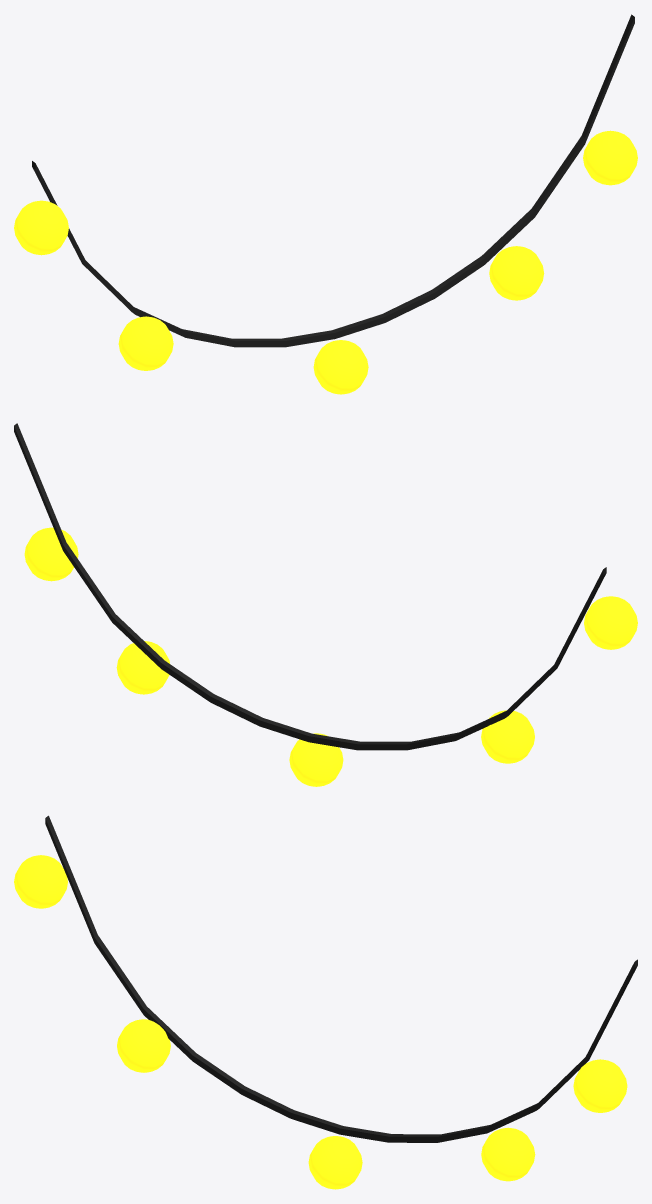
File: Lighting_chain.fbx
3 renders of one model, top to bottom at view 1: azimuth 30°, elevation 25°; view 2: azimuth 150°, elevation 25°; view 3: azimuth 330°, elevation 25°, orthographic.
Visible parts, largest first — view 1: Lighting_chain; view 2: Lighting_chain; view 3: Lighting_chain.
Part boxes in pixels (x1,y1,x2,y2): Lighting_chain: [14, 14, 637, 394]; Lighting_chain: [14, 423, 637, 786]; Lighting_chain: [14, 815, 637, 1189].
Size of the model in its own units: 76.69 by 35.15 by 5.87.
